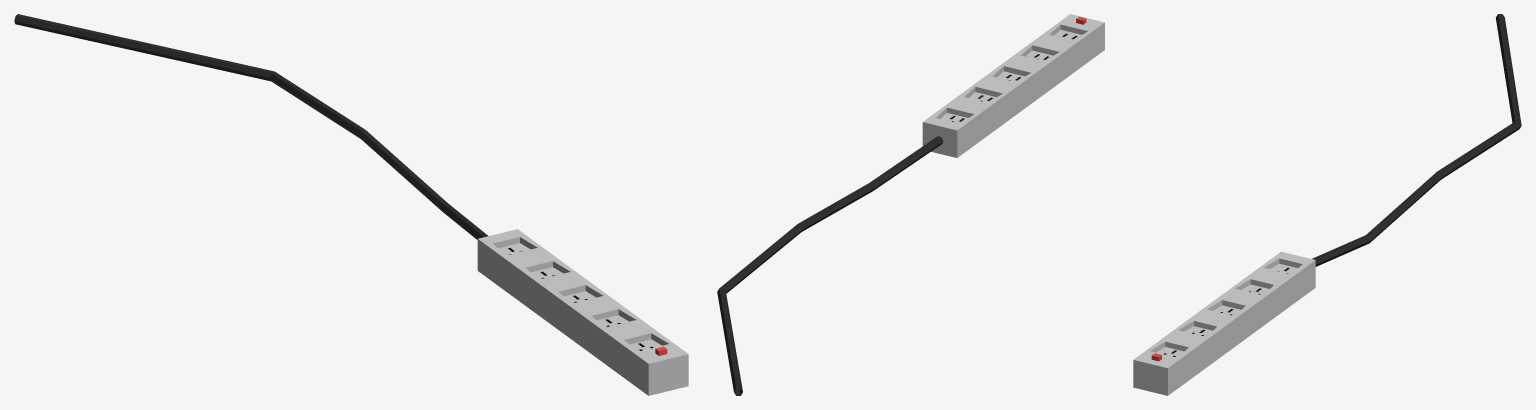
The model's file is Power_Socket_02.fbx.
3 views of the same model, side by side, from view 1: azimuth 30°, elevation 25°; view 2: azimuth 150°, elevation 25°; view 3: azimuth 330°, elevation 25° (orthographic). The views are drawn at different scales.
Visible parts, largest first — view 1: Power_Socket.001; view 2: Power_Socket.001; view 3: Power_Socket.001.
Part boxes in pixels (left/top/right/bottom): Power_Socket.001: left=14, top=14, right=688, bottom=395; Power_Socket.001: left=717, top=14, right=1104, bottom=395; Power_Socket.001: left=1133, top=14, right=1521, bottom=395.
Size of the model in its own units: 0.3219 by 0.0767 by 2.
